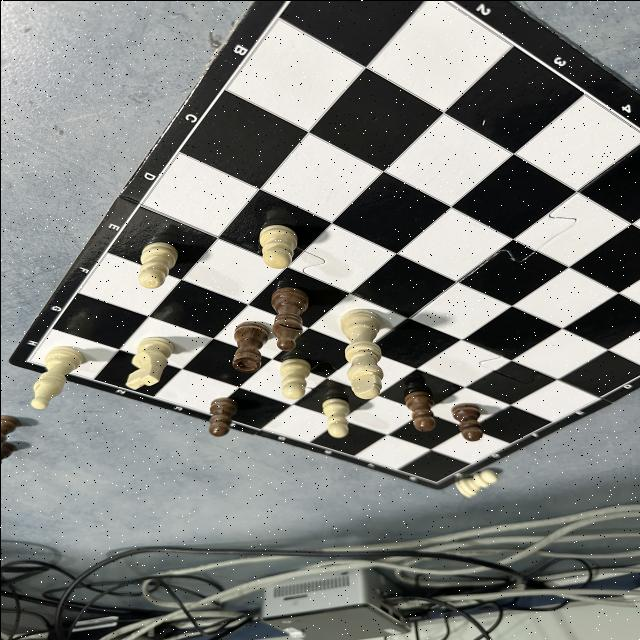Black-Bishop: (271, 286, 306, 350)
Black-Pawn: (404, 388, 434, 431), (450, 403, 482, 441), (208, 396, 235, 436)
Black-Rook: (230, 322, 268, 371)
White-Bishop: (29, 346, 82, 408)
White-King: (342, 309, 382, 399)
White-Knight: (124, 336, 172, 390)
White-Pawn: (256, 222, 296, 268), (138, 240, 176, 288), (280, 358, 310, 399), (454, 469, 496, 497), (322, 396, 349, 438)
